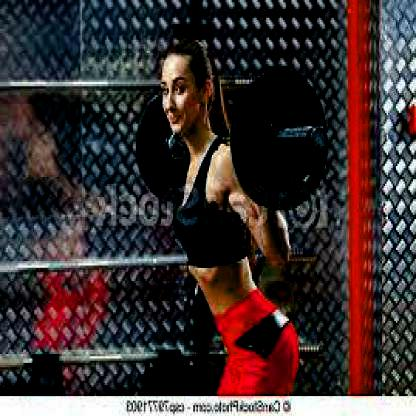Barbell: (304, 121, 333, 157)
